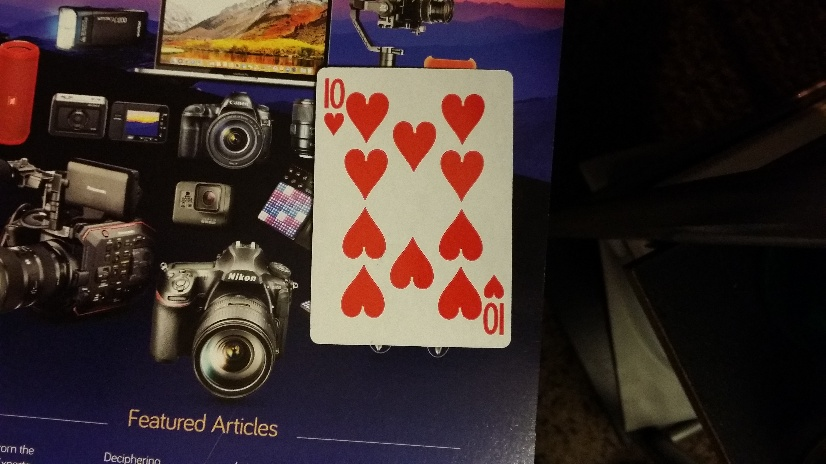H10: (481, 269, 507, 338), (320, 72, 347, 136)
